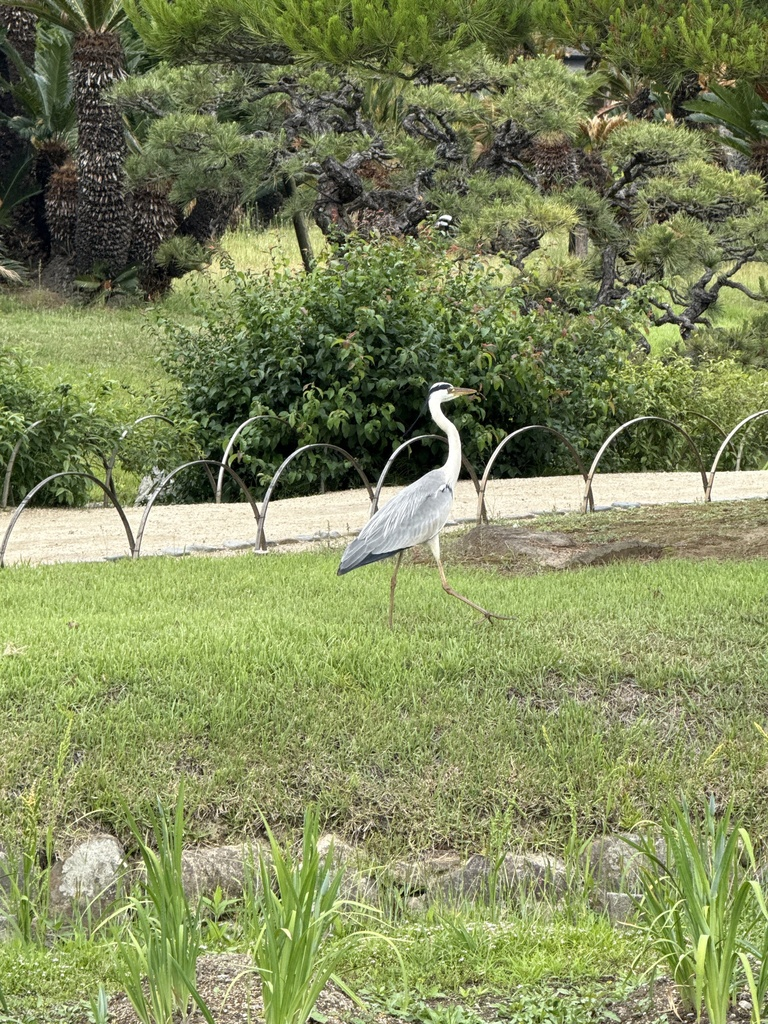heron: (335, 379, 490, 643)
